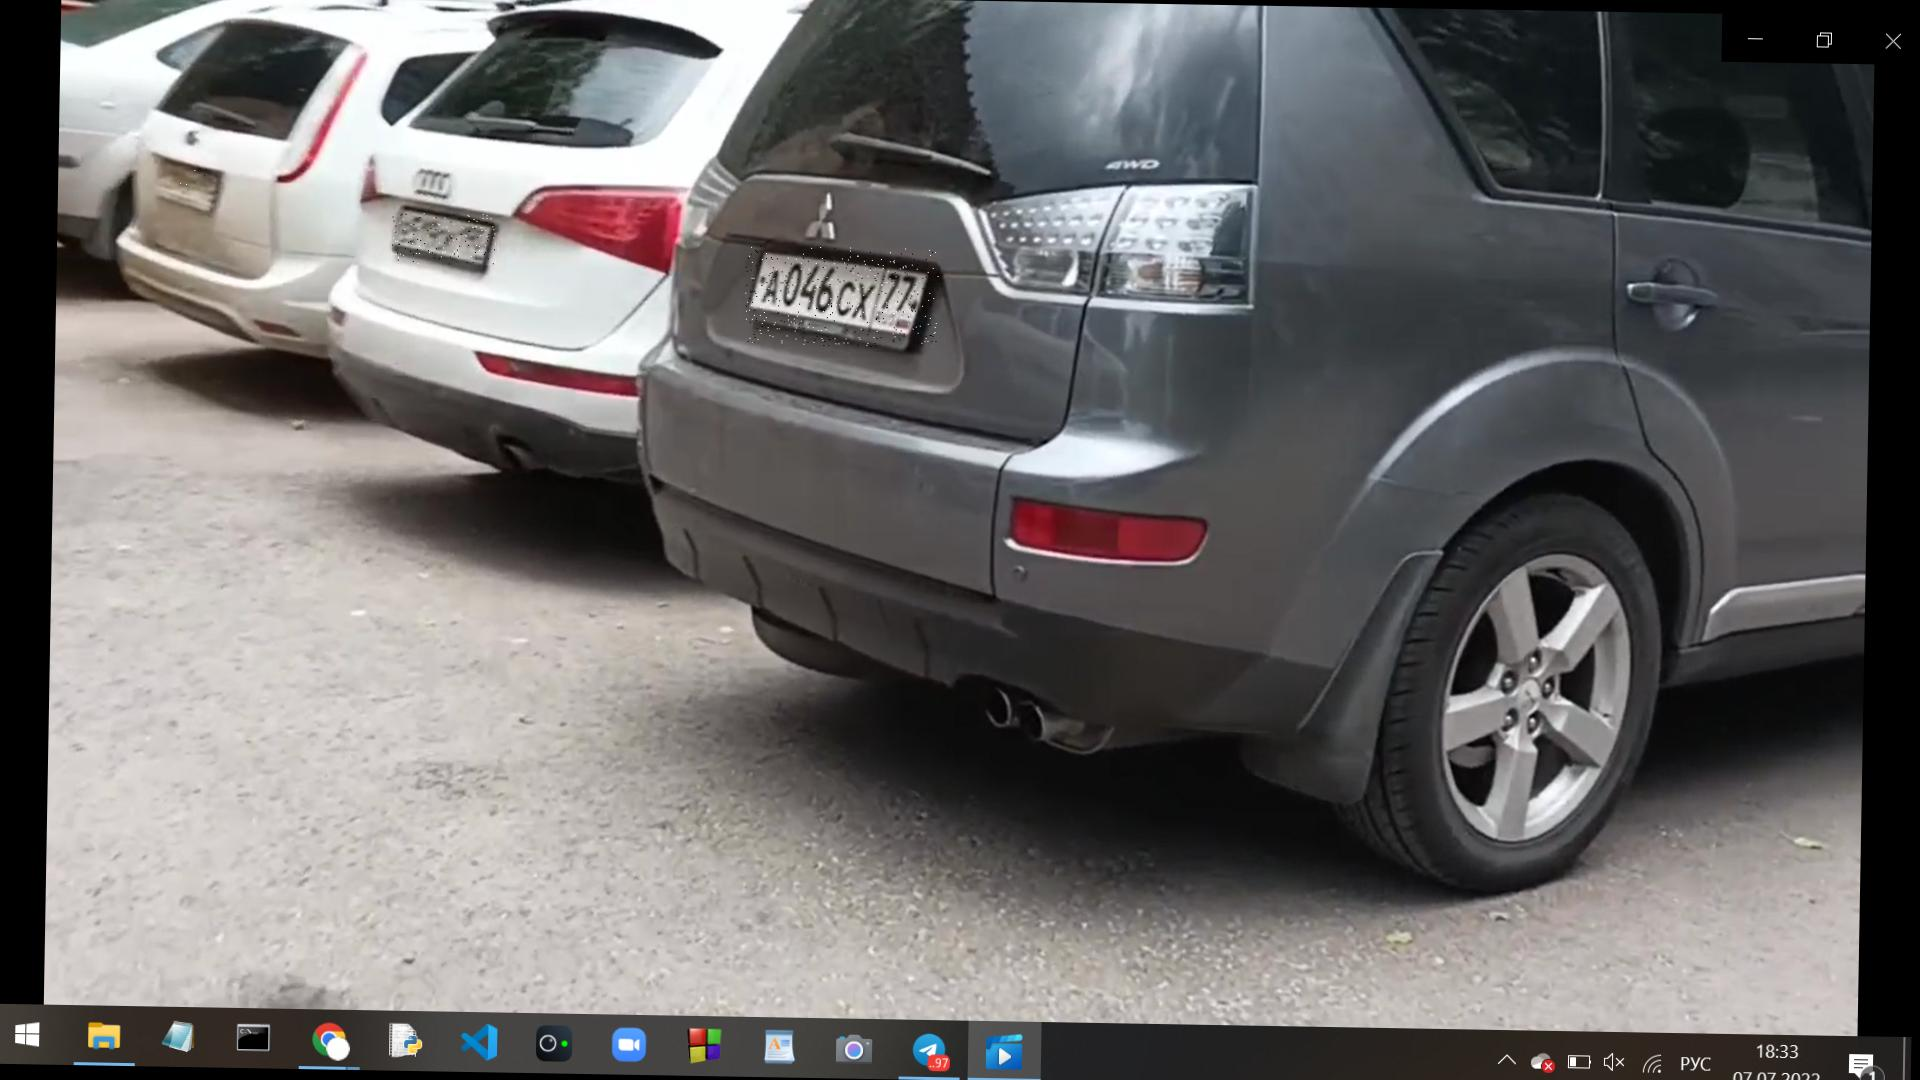plate: (746, 246, 941, 349), (394, 213, 499, 266), (148, 169, 224, 203)
